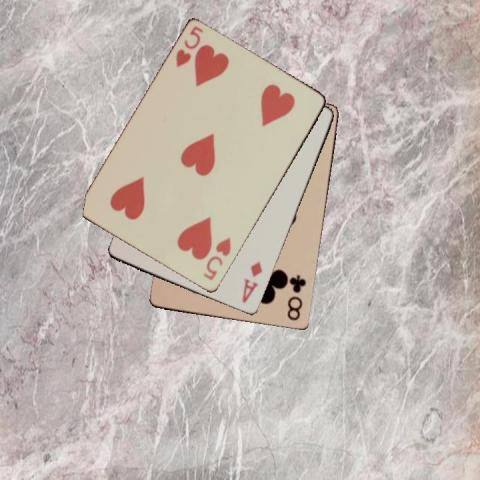5h: (200, 234, 233, 282), (173, 24, 205, 70)
8c: (284, 272, 308, 322)
Ad: (239, 258, 264, 305)
